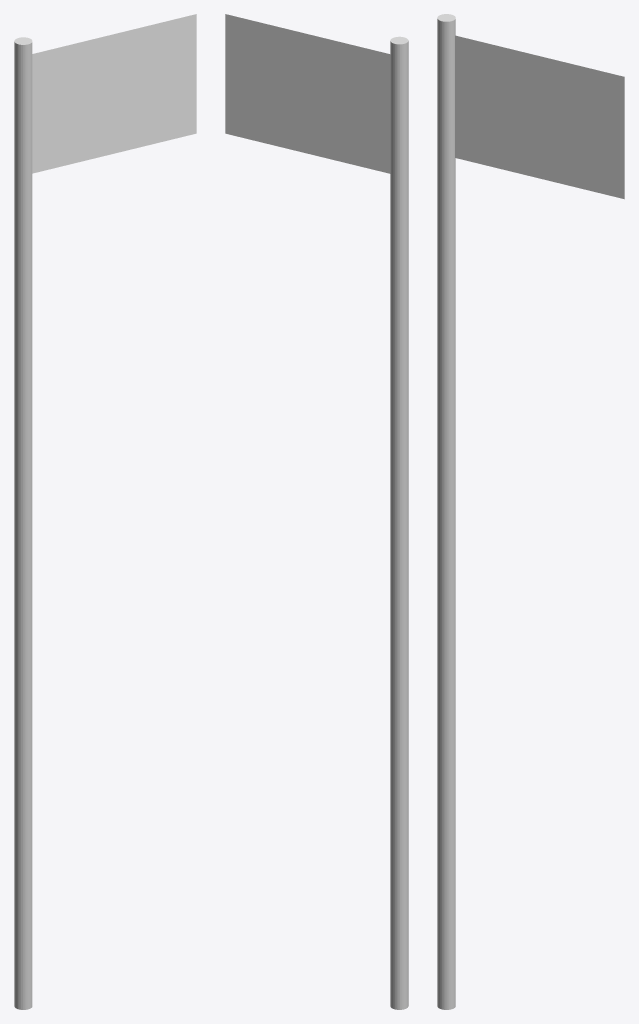
3 renders of one model, left to right at view 1: azimuth 30°, elevation 25°; view 2: azimuth 150°, elevation 25°; view 3: azimuth 330°, elevation 25°, orthographic. The views are drawn at different scales.
Parts seen in each view (by area): view 1: d1; view 2: d1; view 3: d1.
Part boxes in pixels (<box>): d1: <box>14,14,196,1009</box>; d1: <box>225,14,408,1009</box>; d1: <box>437,14,624,1009</box>.
Size of the model in its own units: 0.0655 by 0.3332 by 0.00567.
2 materials, 2 textured.
